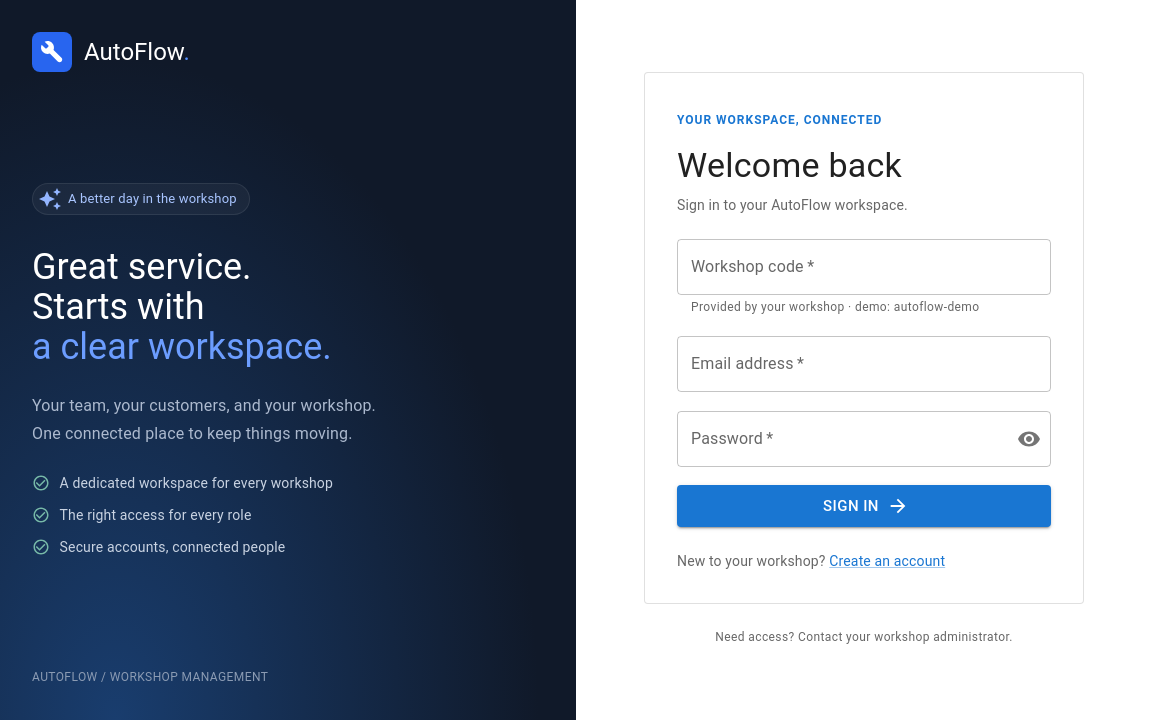
Test: sign in › submits workshop credentials and displays server errors
Type "precision" into the field labelled "Workshop code *". click: (864, 267)
box: x1=677 y1=239 x2=1051 y2=295
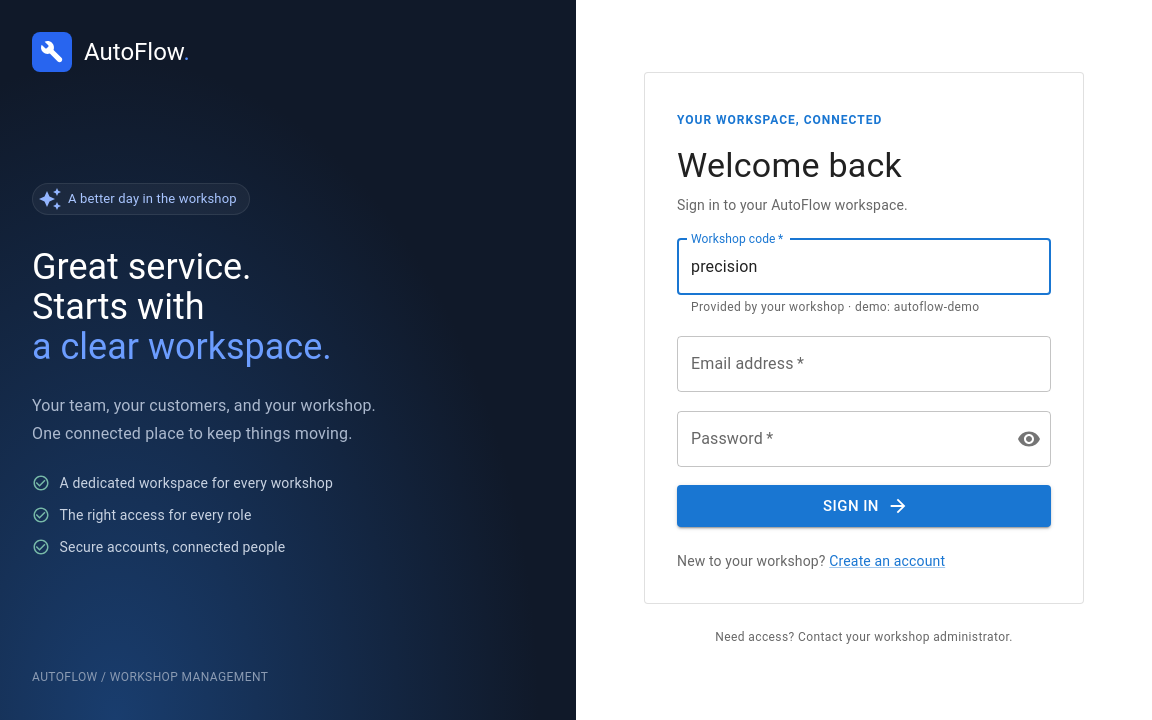
Type "owner@test.dev" into the field labelled "Email address *". click: (864, 364)
box: x1=677 y1=336 x2=1051 y2=392
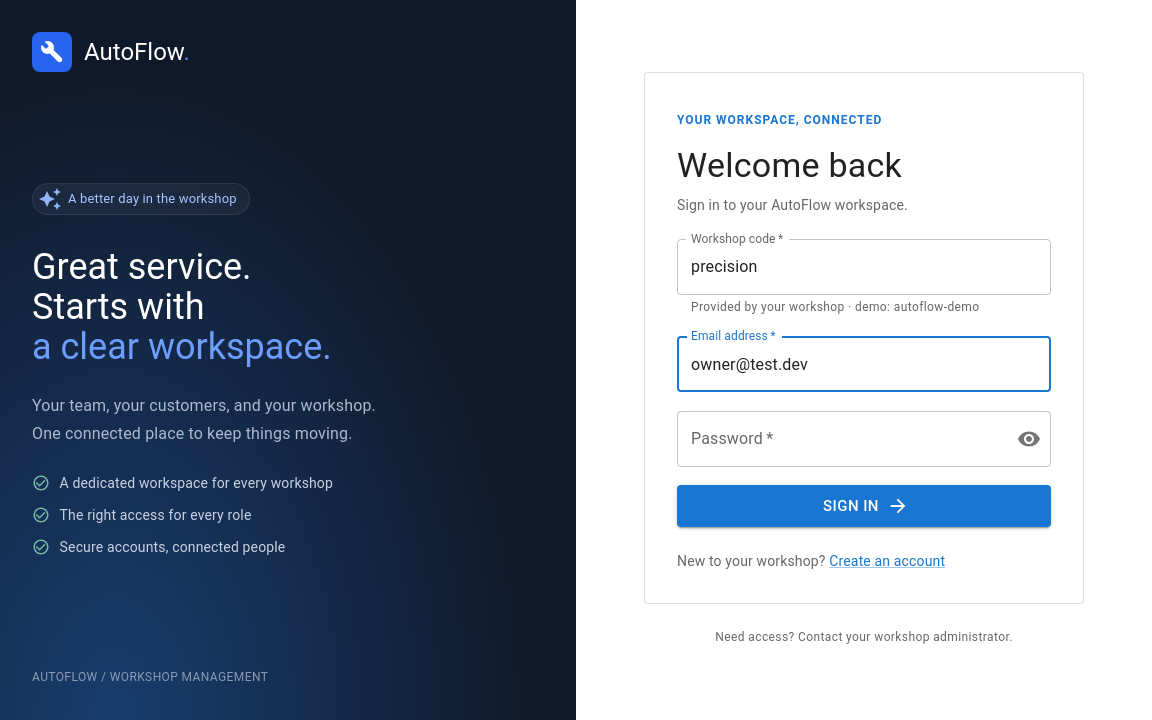
Type "some-password" into the password field labelled "Password *". click: (839, 438)
box: x1=677 y1=410 x2=1001 y2=466
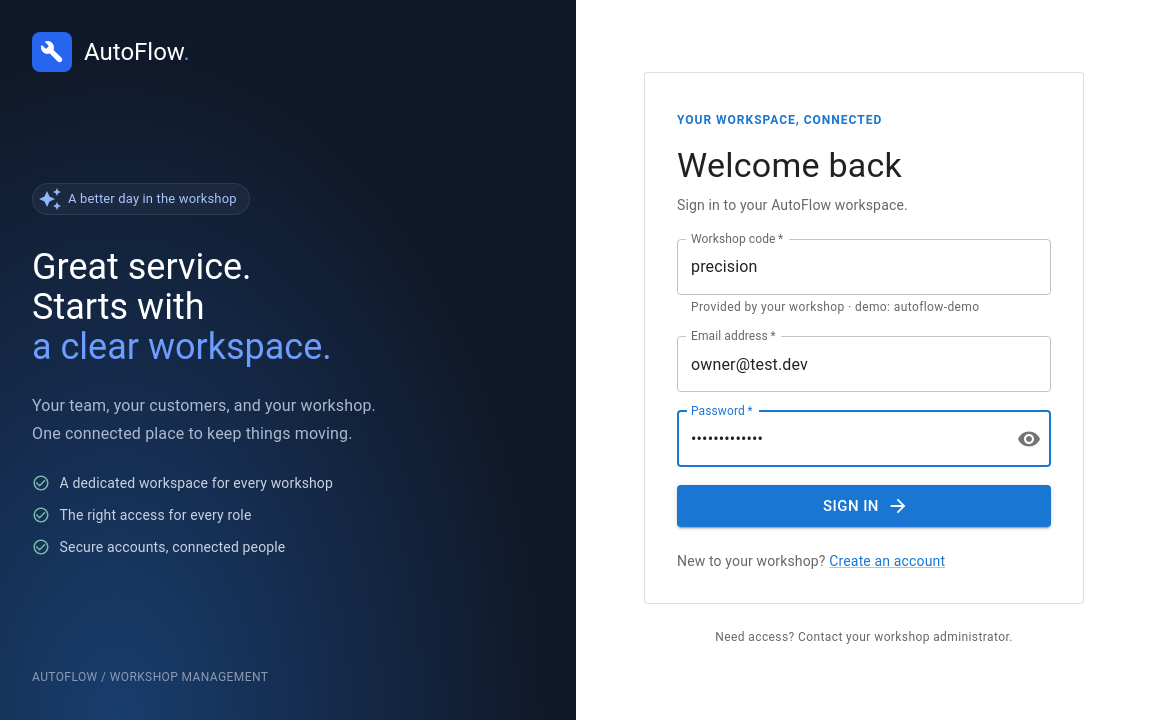
Click the button "Sign in". click: (864, 506)
box: x1=677 y1=485 x2=1051 y2=527
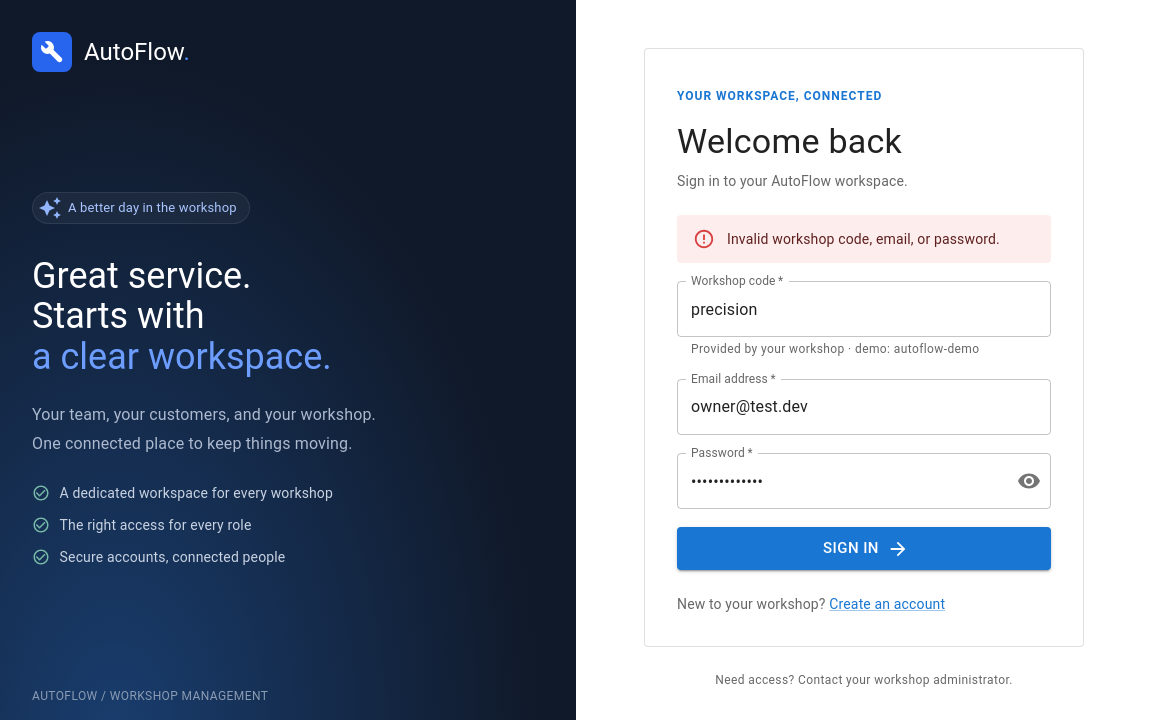
Expected: the message shows "Invalid workshop code", x1=727 y1=231 x2=1000 y2=247
